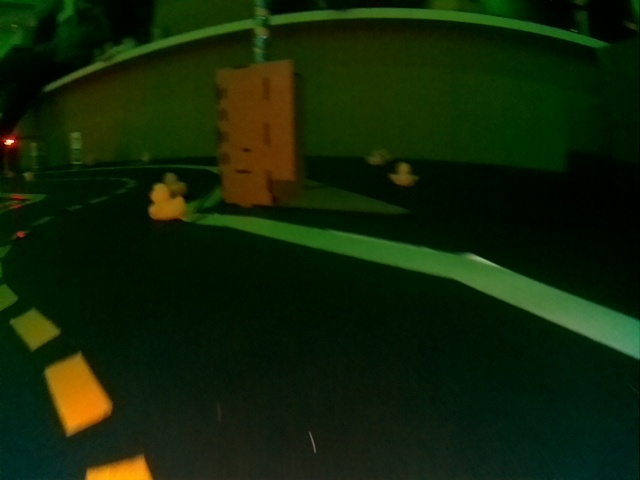Duckie: (149, 183, 186, 221), (389, 162, 419, 186)
